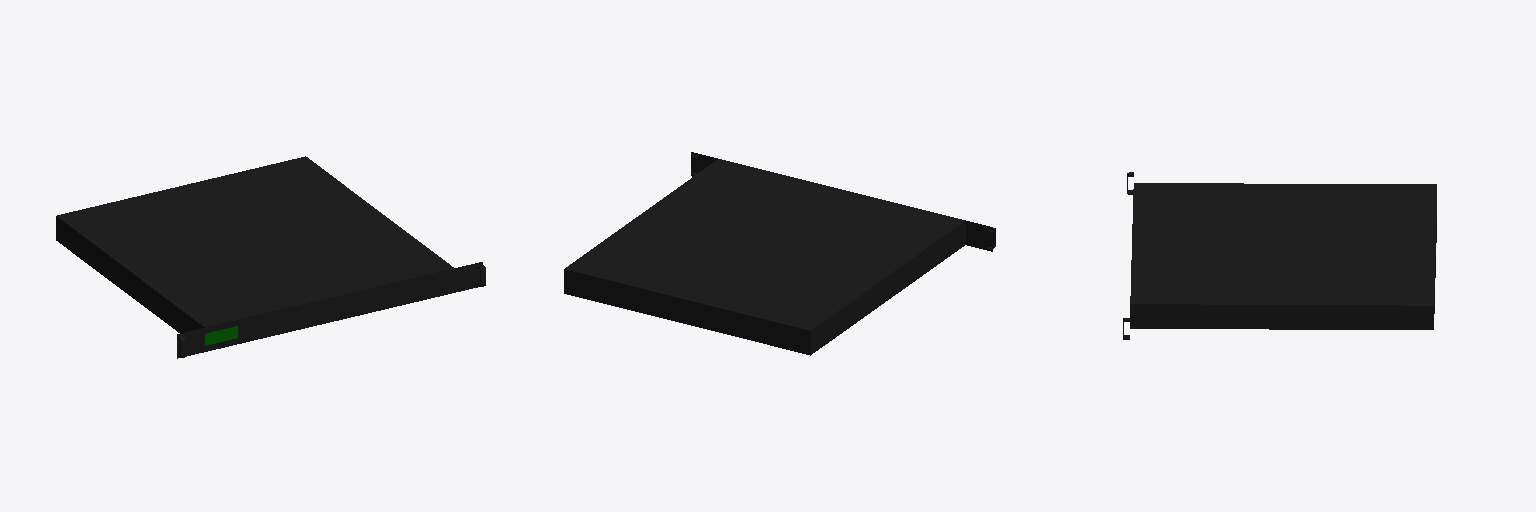
File: server.obj
The picture shows the model from 3 angles: view 1: azimuth 30°, elevation 25°; view 2: azimuth 150°, elevation 25°; view 3: azimuth 270°, elevation 25°; orthographic projection.
Parts seen in each view (by area): view 1: Server; view 2: Server; view 3: Server.
Boxes of the visible parts, x1=… form: Server: x1=56, y1=156, x2=485, y2=358; Server: x1=564, y1=152, x2=995, y2=355; Server: x1=1123, y1=172, x2=1436, y2=339.
Size of the model in its own units: 1.29 by 0.1 by 1.16.